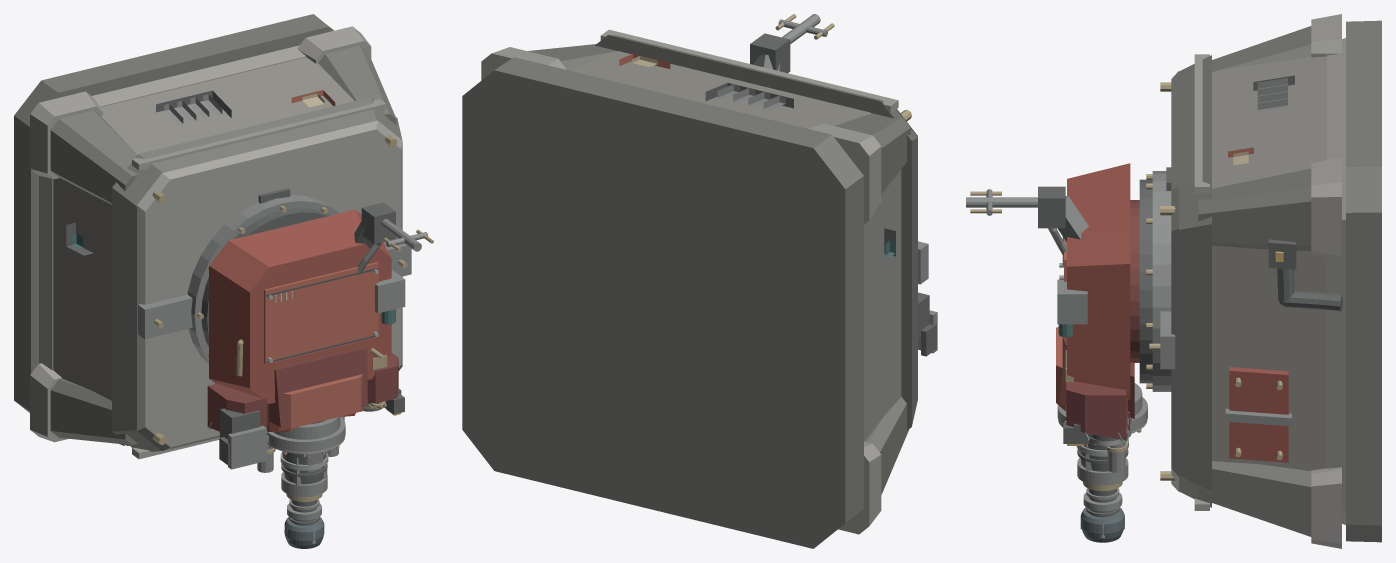
Rendered from martian_heavy_weapon_bunker_source_geometry_v08.glb.
3 renders of one model, left to right at view 1: azimuth 30°, elevation 25°; view 2: azimuth 150°, elevation 25°; view 3: azimuth 270°, elevation 25°, orthographic. The views are drawn at different scales.
Visible parts, largest first — view 1: 05_top_concrete_skin, 03_monolithic_bunker_mass, 16_martian_red_turret_armor, 01_foundation_granular_ferrocrete, 04_upper_blast_cap, 87_roof_red_inspection_armor, 02_lower_blast_raft, 06_corner_armor_buttress_WN, 06_corner_armor_buttress_WS, 13_ring_lower_bearing_seat, 19_roof_to_mantlet_transition, 19_mantlet_upper_brow (+20 smaller); view 2: 01_foundation_granular_ferrocrete, 03_monolithic_bunker_mass, 04_upper_blast_cap, 07_corner_buttress_foot_WN, 06_corner_armor_buttress_WN, 06_corner_armor_buttress_WS, 07_corner_buttress_foot_WS, 54_north_slab_anchor_strip, 31_antenna_base, 06_corner_armor_buttress_EN, 07_corner_buttress_foot_EN; view 3: 03_monolithic_bunker_mass, 01_foundation_granular_ferrocrete, 04_upper_blast_cap, 16_martian_red_turret_armor, 06_corner_armor_buttress_EN, 02_lower_blast_raft, 06_corner_armor_buttress_ES, 55_east_wall_controller_armor, 13_ring_lower_bearing_seat, 05_top_concrete_skin, 07_corner_buttress_foot_EN, 18_turret_front_cheek_E (+17 smaller).
Boxes of the visible parts, left/top/right/bottom form: 05_top_concrete_skin: left=137, top=120, right=402, bottom=450; 03_monolithic_bunker_mass: left=53, top=57, right=353, bottom=400; 16_martian_red_turret_armor: left=209, top=209, right=391, bottom=403; 01_foundation_granular_ferrocrete: left=14, top=14, right=333, bottom=412; 04_upper_blast_cap: left=112, top=97, right=402, bottom=451; 87_roof_red_inspection_armor: left=264, top=262, right=378, bottom=364; 02_lower_blast_raft: left=39, top=45, right=306, bottom=370; 06_corner_armor_buttress_WN: left=50, top=110, right=137, bottom=204; 06_corner_armor_buttress_WS: left=50, top=378, right=137, bottom=445; 13_ring_lower_bearing_seat: left=187, top=195, right=339, bottom=364; 19_roof_to_mantlet_transition: left=269, top=347, right=367, bottom=427; 19_mantlet_upper_brow: left=279, top=374, right=363, bottom=431; 01_foundation_granular_ferrocrete: left=462, top=57, right=863, bottom=548; 03_monolithic_bunker_mass: left=570, top=51, right=901, bottom=441; 04_upper_blast_cap: left=595, top=35, right=917, bottom=430; 07_corner_buttress_foot_WN: left=808, top=123, right=881, bottom=224; 06_corner_armor_buttress_WN: left=835, top=113, right=910, bottom=193; 06_corner_armor_buttress_WS: left=865, top=397, right=908, bottom=494; 07_corner_buttress_foot_WS: left=838, top=441, right=881, bottom=534; 54_north_slab_anchor_strip: left=600, top=29, right=898, bottom=112; 31_antenna_base: left=750, top=33, right=790, bottom=73; 06_corner_armor_buttress_EN: left=527, top=44, right=616, bottom=70; 07_corner_buttress_foot_EN: left=481, top=47, right=566, bottom=80; 03_monolithic_bunker_mass: left=1212, top=56, right=1326, bottom=470; 01_foundation_granular_ferrocrete: left=1346, top=20, right=1381, bottom=542; 04_upper_blast_cap: left=1179, top=55, right=1211, bottom=507; 16_martian_red_turret_armor: left=1067, top=163, right=1130, bottom=399; 06_corner_armor_buttress_EN: left=1198, top=168, right=1311, bottom=251; 02_lower_blast_raft: left=1326, top=38, right=1345, bottom=524; 06_corner_armor_buttress_ES: left=1198, top=461, right=1311, bottom=536; 55_east_wall_controller_armor: left=1229, top=367, right=1288, bottom=462; 13_ring_lower_bearing_seat: left=1152, top=171, right=1171, bottom=391; 05_top_concrete_skin: left=1171, top=71, right=1178, bottom=491; 07_corner_buttress_foot_EN: left=1311, top=157, right=1341, bottom=262; 18_turret_front_cheek_E: left=1066, top=381, right=1126, bottom=440.
Bounding box in the file's own units: 3.04 × 3.53 × 3.01.
